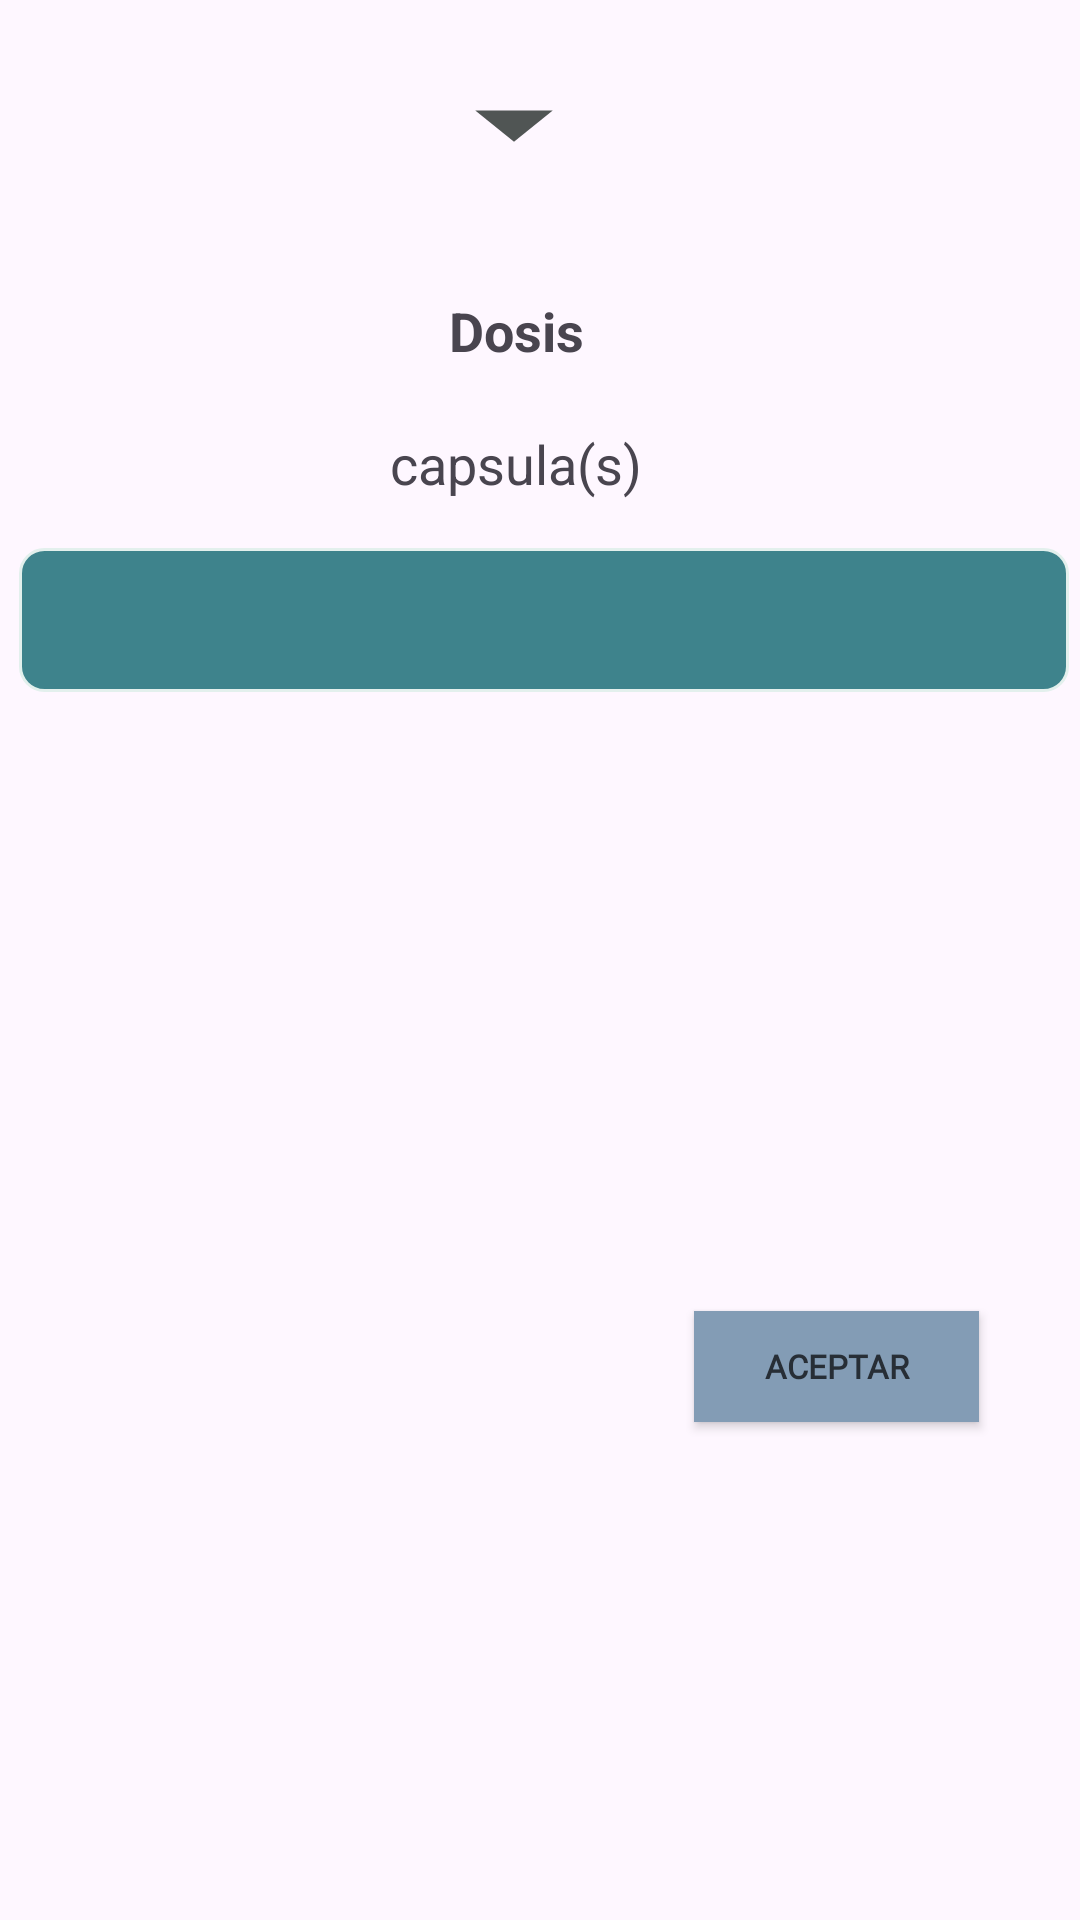

Named icons in this screenshot (1080 × 1920) and their bounding boxes, (x1, y1, x2, y2):
arrow: (475, 110, 553, 142)
